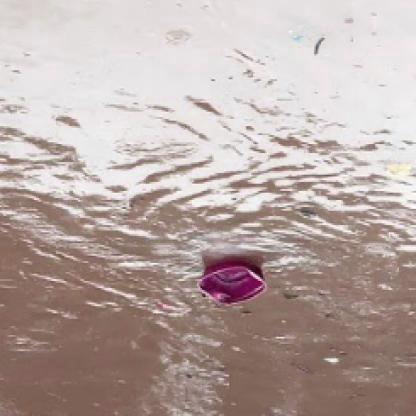Plastic: (199, 259, 268, 311)
